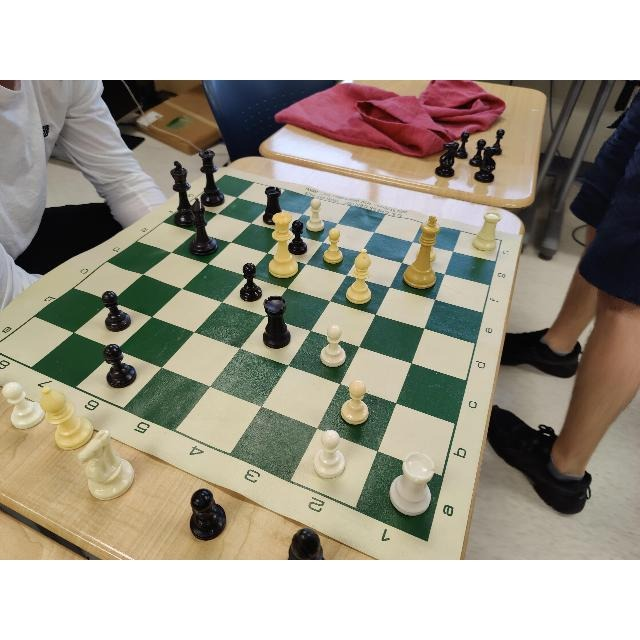black-bishop: (190, 198, 218, 256)
black-king: (171, 160, 195, 226)
black-pawn: (103, 343, 137, 388), (102, 290, 132, 332), (239, 262, 263, 301), (288, 220, 307, 256)
black-queen: (199, 148, 225, 207)
black-rook: (263, 293, 291, 349), (264, 185, 282, 224)
white-bishop: (345, 248, 372, 303)
white-king: (402, 214, 442, 287)
white-pawn: (314, 429, 345, 479), (341, 380, 369, 425), (320, 324, 347, 368), (323, 228, 343, 264), (307, 198, 325, 231)
white-queen: (269, 212, 297, 278)
white-rook: (390, 452, 434, 516), (472, 211, 500, 251)
